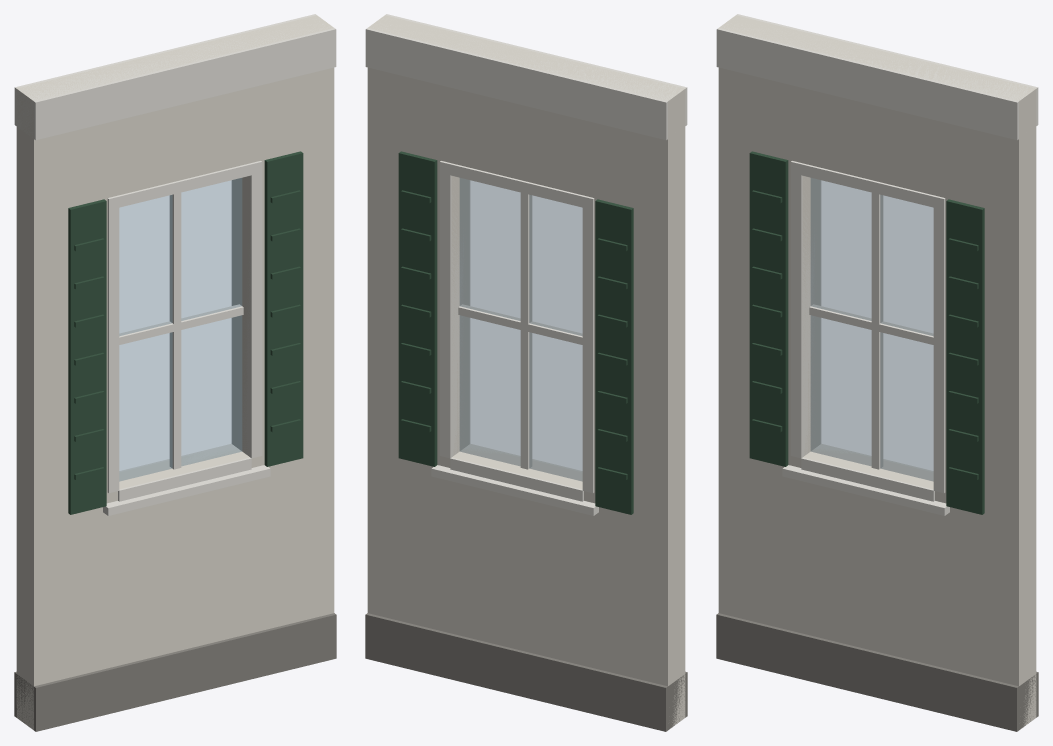
File: mod-reboco-branco-janela.gltf
3 renders of one model, left to right at view 1: azimuth 30°, elevation 25°; view 2: azimuth 150°, elevation 25°; view 3: azimuth 330°, elevation 25°, orthographic.
Visible parts, largest first — view 1: mod-reboco-branco-janela; view 2: mod-reboco-branco-janela; view 3: mod-reboco-branco-janela.
Part boxes in pixels (<box>): mod-reboco-branco-janela: <box>14,14,336,731</box>; mod-reboco-branco-janela: <box>365,14,687,731</box>; mod-reboco-branco-janela: <box>716,14,1038,731</box>.
Size of the model in its own units: 1 by 2 by 0.16.
